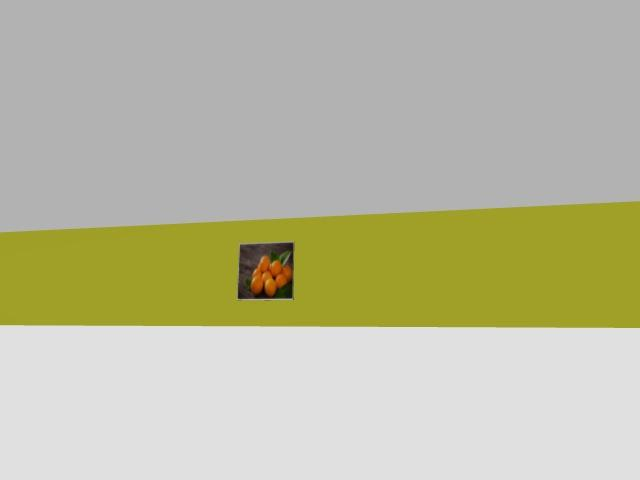orange: (264, 277, 276, 296), (251, 276, 262, 295), (270, 259, 281, 277), (275, 273, 287, 288), (282, 265, 292, 281), (259, 256, 269, 271), (262, 270, 272, 281), (252, 267, 261, 276)
